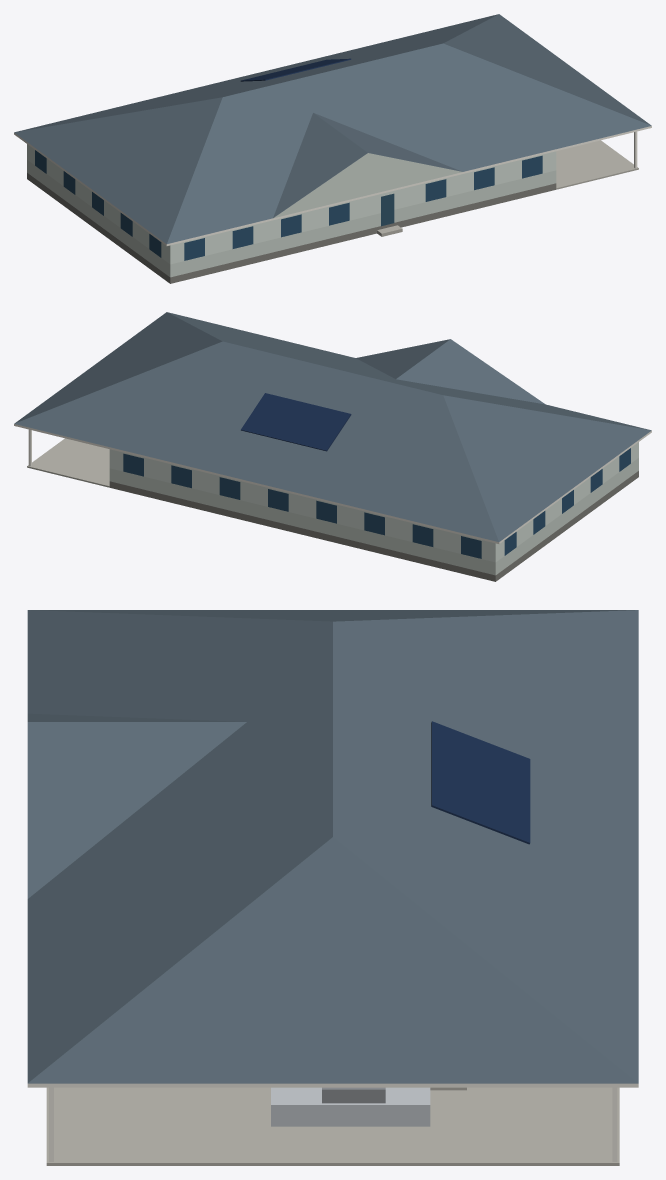
Rendered from house_34x18_lod1.glb.
3 renders of one model, top to bottom at view 1: azimuth 30°, elevation 25°; view 2: azimuth 150°, elevation 25°; view 3: azimuth 270°, elevation 25°, orthographic. The views are drawn at different scales.
Visible parts, largest first — view 1: house; view 2: house; view 3: house.
Part boxes in pixels (<box>): house: <box>14,14,651,283</box>; house: <box>14,312,651,581</box>; house: <box>27,610,638,1165</box>.
Bounding box in the file's own units: 35.2 × 7.21 × 19.21.
